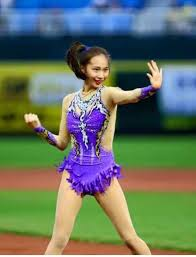person: (23, 43, 167, 257)
